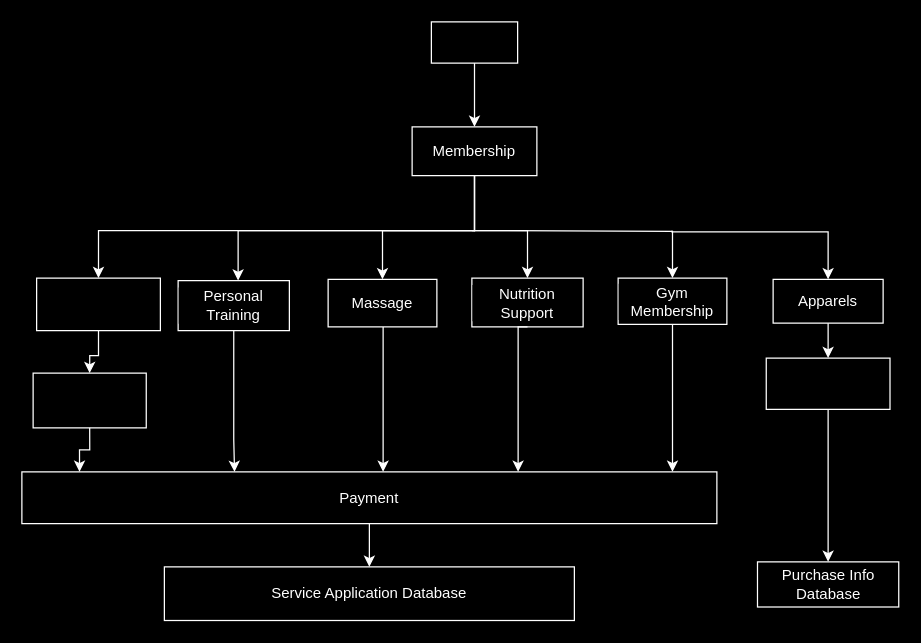
Image size: 921x643. Some labels were removed from this diagram. The centre of each missing label's shape, as x and y in pixels:
"Login" belongs at (474,42).
"Olympic Weightlifting/ Workshops" belongs at (89,400).
"Purchase" belongs at (827,383).
"Specialist Classes & Workshops" belongs at (97,304).
